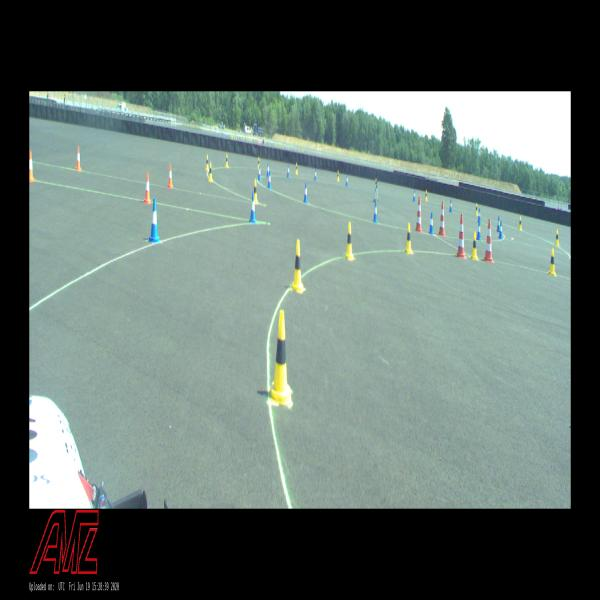blue_cone: (147, 199, 161, 244), (250, 192, 256, 222), (429, 212, 434, 234), (476, 220, 481, 241), (373, 200, 377, 222), (267, 172, 272, 189), (303, 182, 307, 203), (498, 221, 502, 239), (496, 216, 499, 231), (258, 166, 261, 181), (266, 163, 269, 177), (413, 189, 416, 202), (287, 164, 290, 177), (314, 168, 317, 181), (478, 208, 480, 222), (450, 200, 452, 212), (346, 175, 348, 186)
large_orange_cone: (482, 218, 494, 263), (455, 214, 467, 258), (438, 202, 446, 236), (416, 197, 423, 232)
orange_cone: (143, 172, 151, 203), (74, 146, 82, 170), (167, 164, 173, 188), (30, 151, 34, 182)
yellow_cone: (269, 309, 292, 402), (291, 239, 305, 294), (344, 222, 354, 260), (405, 223, 413, 254), (548, 248, 556, 276), (470, 232, 478, 260), (208, 162, 213, 183), (254, 180, 258, 202), (554, 230, 559, 246), (205, 155, 209, 170), (518, 217, 522, 230), (224, 154, 228, 167), (475, 202, 478, 215), (425, 190, 428, 201), (295, 163, 298, 174), (257, 157, 260, 168), (337, 170, 339, 181)
